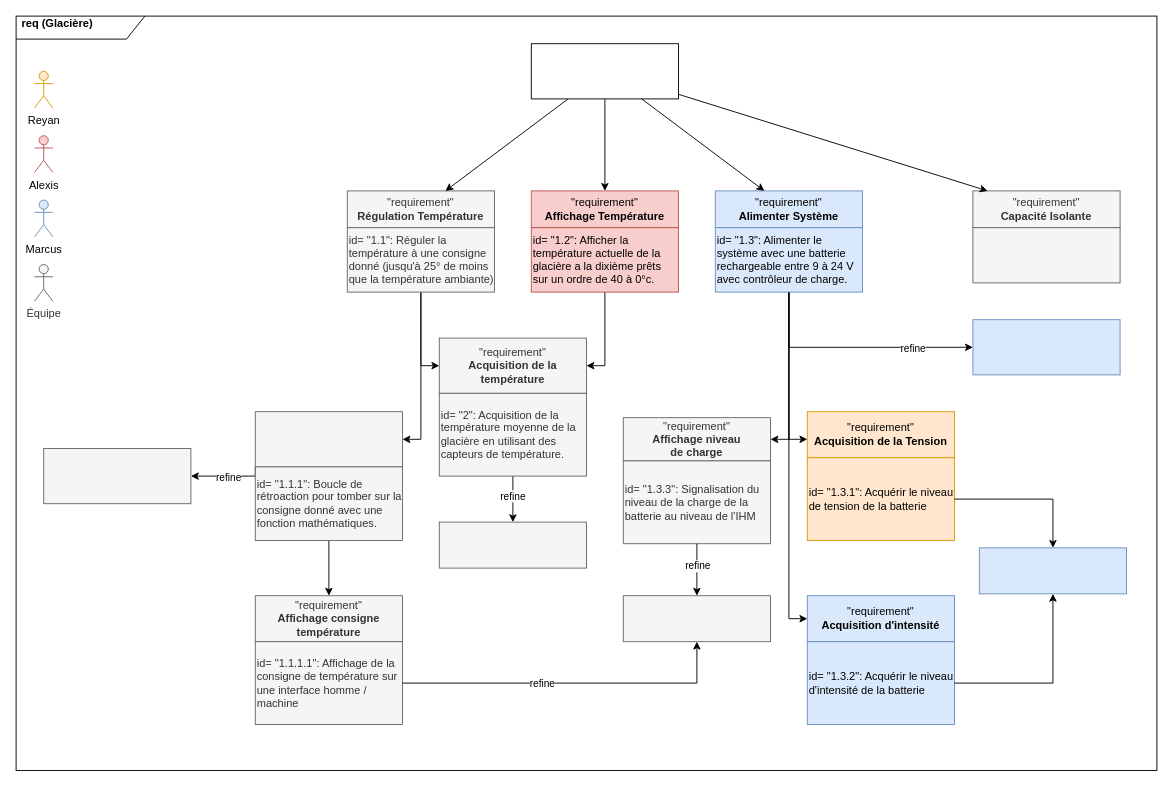
This 1173x787 diagram has some shape labels left out. The shapes that lost their labels are listed below. From the top down, each one's centre as x and y in pixels, then its label:
(x=604, y=71): "requirement" Glacière Autonome
(x=1046, y=255): id= "1.4": La glacière doit garder ces caractéristiques isolante excellente.
(x=1046, y=347): "block" batterie rechargeable
(x=328, y=439): "requirement" Système Asservis
(x=117, y=476): "block" Fonction Mathématiques
(x=512, y=544): "block" Capteurs Température
(x=1052, y=570): "refine" Fonction Mathématique
(x=696, y=618): "block" IHM
